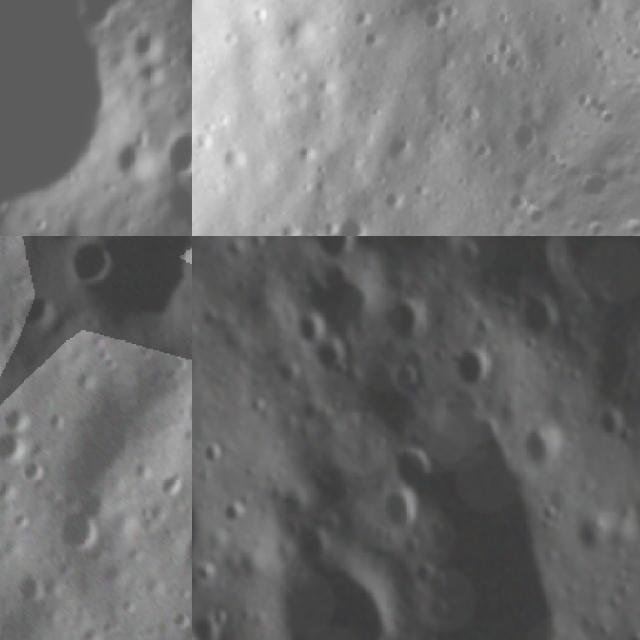crater: (0, 0, 192, 236), (67, 236, 192, 339), (273, 550, 404, 640), (532, 236, 640, 320), (300, 265, 382, 351), (53, 504, 113, 561), (386, 442, 441, 497), (376, 482, 422, 546), (374, 127, 428, 179), (110, 136, 162, 187), (65, 236, 113, 291), (208, 138, 260, 188), (519, 422, 566, 477), (568, 512, 622, 559), (502, 112, 551, 163), (520, 292, 566, 346), (386, 300, 430, 354), (450, 344, 496, 393), (304, 236, 359, 271), (128, 20, 167, 66), (160, 127, 192, 178), (323, 207, 378, 236), (375, 188, 415, 226), (386, 361, 426, 399), (312, 340, 347, 383), (19, 292, 58, 330), (414, 4, 451, 42), (486, 29, 524, 65), (134, 56, 170, 92), (497, 50, 533, 85), (575, 0, 620, 28), (12, 571, 47, 606), (0, 402, 34, 436), (0, 430, 28, 466), (16, 458, 53, 484), (192, 613, 223, 640), (181, 391, 192, 437), (179, 39, 192, 77), (302, 230, 365, 236)
